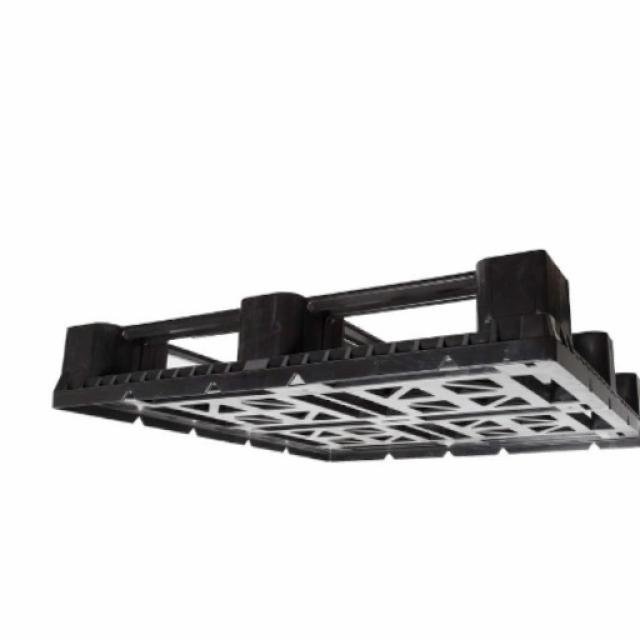non-igps: (43, 243, 640, 469)
